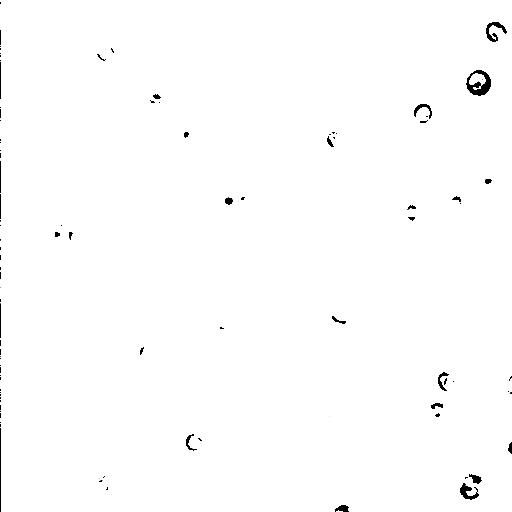micro-algae: (273, 199, 409, 329), (17, 192, 103, 277), (4, 21, 71, 85), (0, 183, 52, 265), (383, 196, 443, 251), (53, 0, 114, 52), (369, 11, 413, 52), (1, 79, 37, 115), (128, 0, 169, 30), (466, 439, 500, 471), (61, 222, 95, 253), (209, 182, 239, 215), (111, 337, 144, 367), (323, 297, 352, 329), (137, 341, 166, 369), (455, 473, 484, 501), (465, 69, 493, 96), (170, 121, 197, 148), (364, 99, 390, 127), (471, 168, 499, 193), (399, 201, 423, 228), (483, 19, 507, 45), (89, 473, 113, 495), (436, 370, 457, 393), (95, 41, 117, 61), (47, 225, 68, 245), (414, 103, 433, 124), (325, 129, 344, 149), (183, 433, 203, 451), (427, 400, 443, 420), (445, 194, 463, 209), (503, 371, 511, 395), (331, 502, 352, 511), (507, 437, 511, 453)
